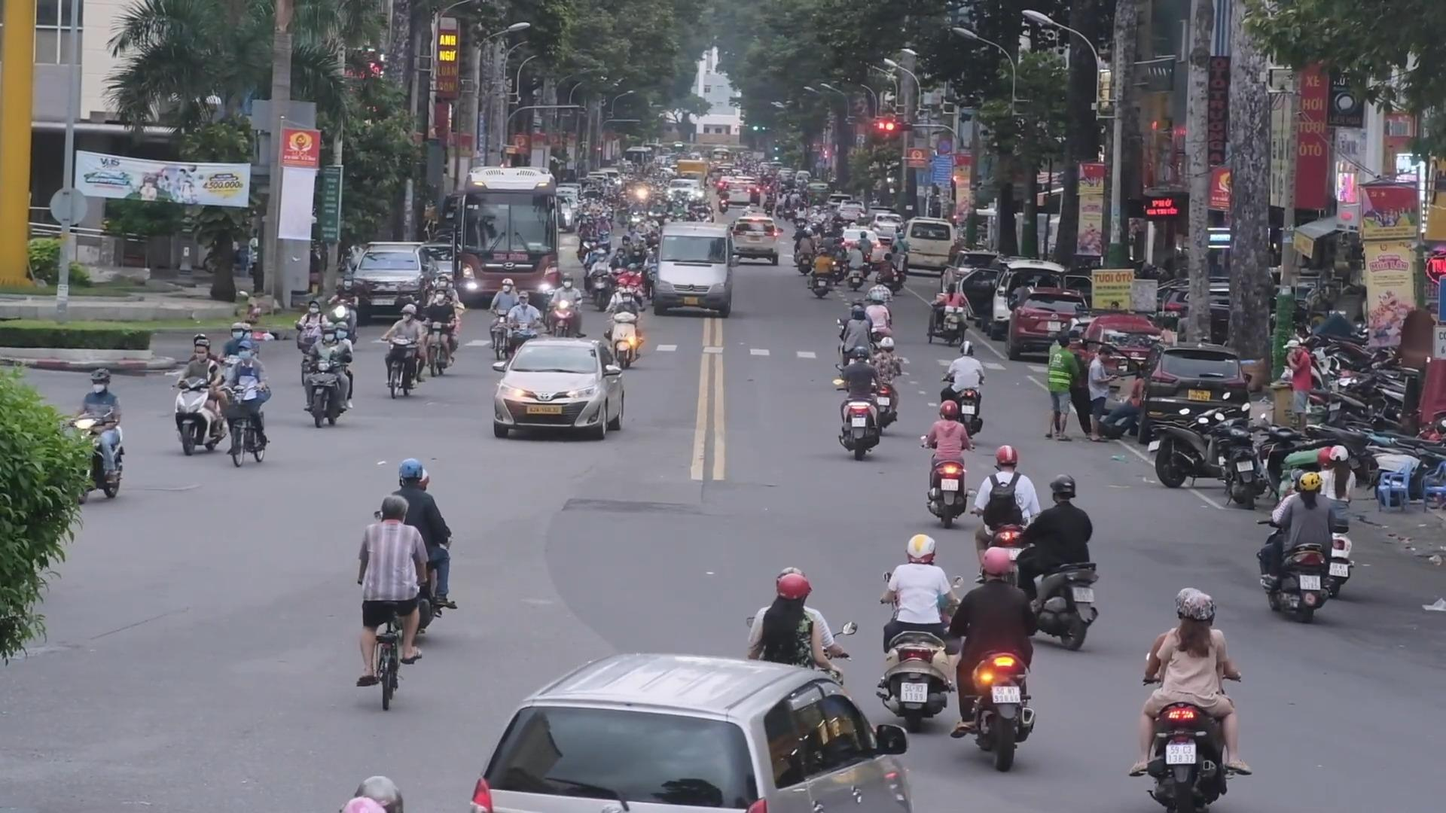bicyclist: (355, 493, 431, 712), (215, 340, 272, 467)
driver: (1128, 588, 1252, 813), (947, 546, 1037, 774), (874, 533, 962, 733), (1014, 472, 1099, 652), (745, 566, 858, 685), (1255, 467, 1336, 624), (62, 368, 125, 505), (920, 400, 976, 530), (170, 333, 228, 456), (1318, 444, 1356, 597), (300, 321, 354, 428), (836, 345, 883, 460), (939, 340, 986, 440), (381, 304, 428, 399), (421, 287, 459, 378), (609, 288, 646, 369), (545, 273, 587, 338), (487, 277, 519, 361), (807, 247, 835, 299)
helmet: (1182, 593, 1216, 628), (979, 546, 1011, 581), (778, 574, 812, 606), (905, 533, 936, 564), (1050, 472, 1075, 503), (399, 458, 423, 488), (995, 445, 1017, 472), (1299, 471, 1324, 494), (90, 368, 110, 394), (1329, 445, 1349, 468), (939, 400, 959, 421), (323, 322, 336, 343), (853, 346, 869, 362), (881, 337, 895, 353), (960, 340, 973, 357)
no-helmet: (381, 494, 409, 524), (238, 340, 253, 360)
